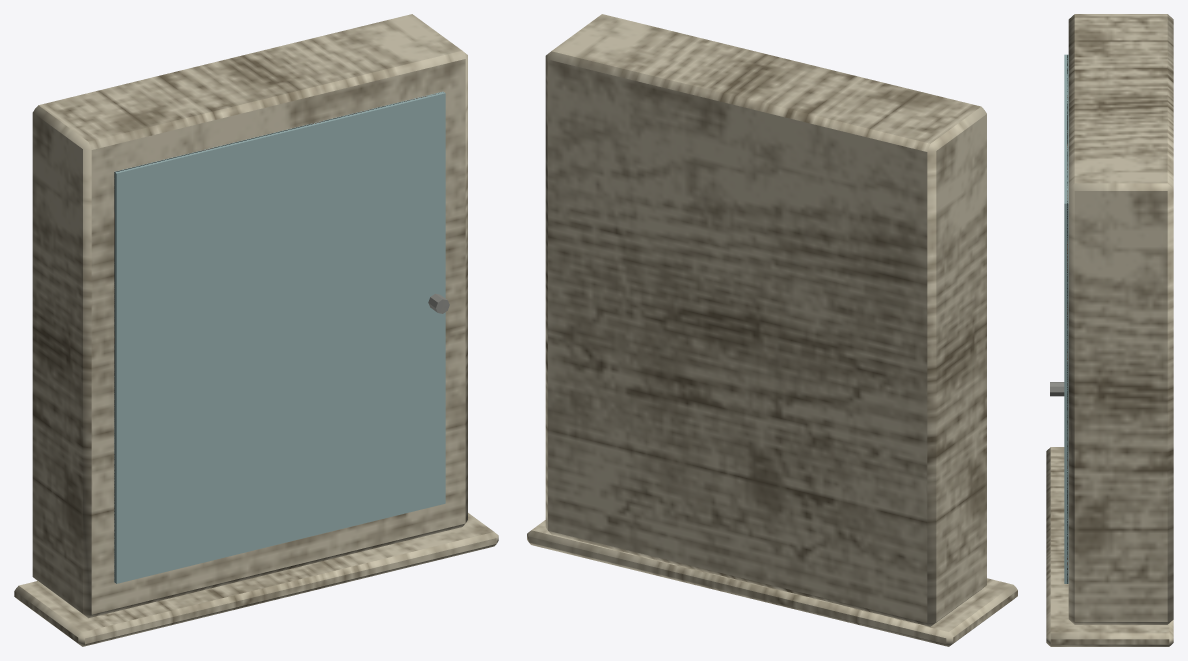
The model's file is MirrorCabinet.fbx.
The picture shows the model from 3 angles, left to right: view 1: azimuth 30°, elevation 25°; view 2: azimuth 150°, elevation 25°; view 3: azimuth 270°, elevation 25°; orthographic projection. The views are drawn at different scales.
Visible parts, largest first — view 1: MirrorCabinet; view 2: MirrorCabinet; view 3: MirrorCabinet.
Part boxes in pixels (x1,y1,x2,y2): MirrorCabinet: (14, 14, 498, 646); MirrorCabinet: (527, 14, 1017, 646); MirrorCabinet: (1046, 14, 1173, 646).
Size of the model in its own units: 0.6 by 0.67 by 0.17.
